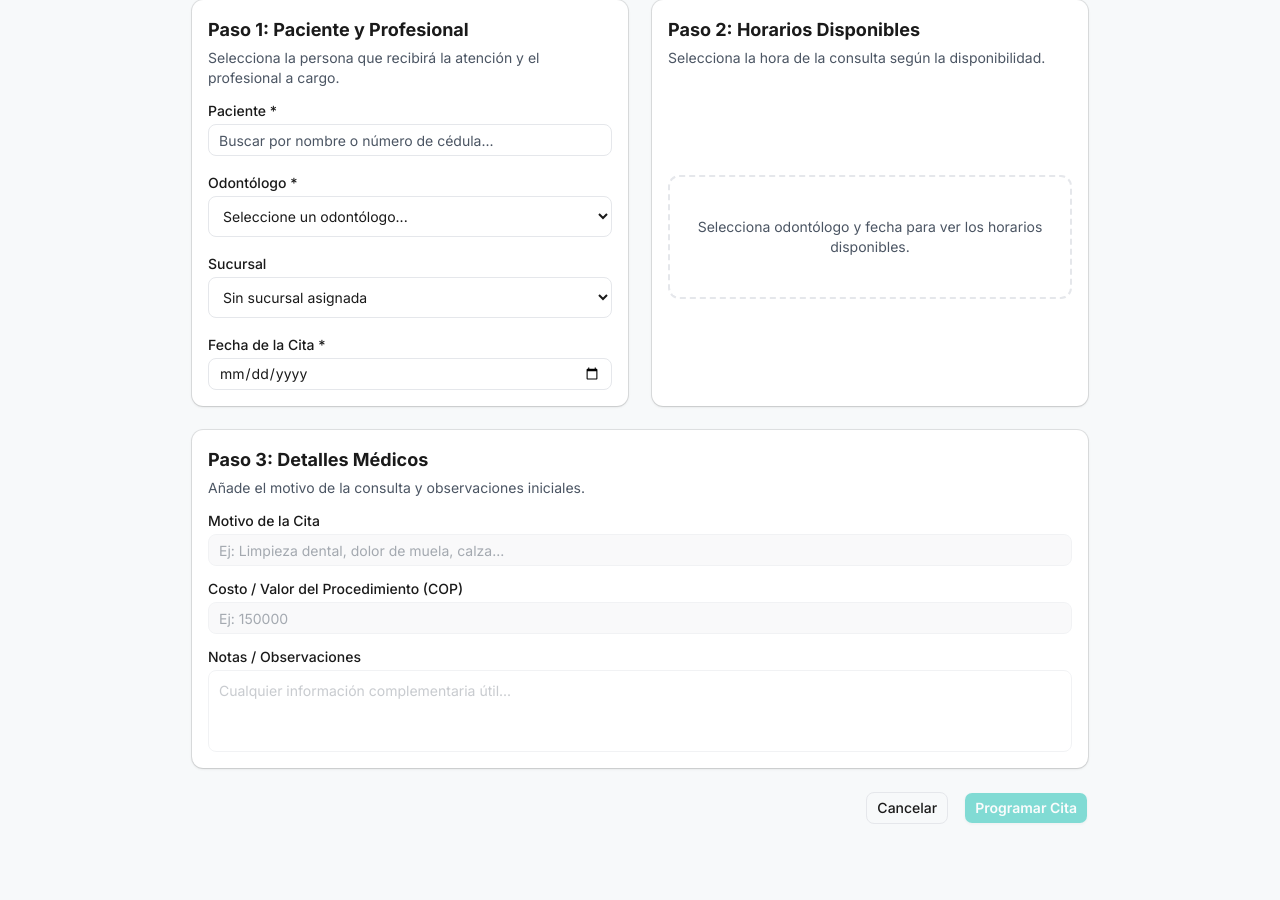
Test: AppointmentForm Component › 4. should handle overlap error, show warning alert, and preserve form values
Select patient
Type "Juan" into the field with placeholder "Buscar por nombre o número de cédula...".
click(410, 140); type("Juan")  # box top-left (208, 124), bottom-right (612, 156)
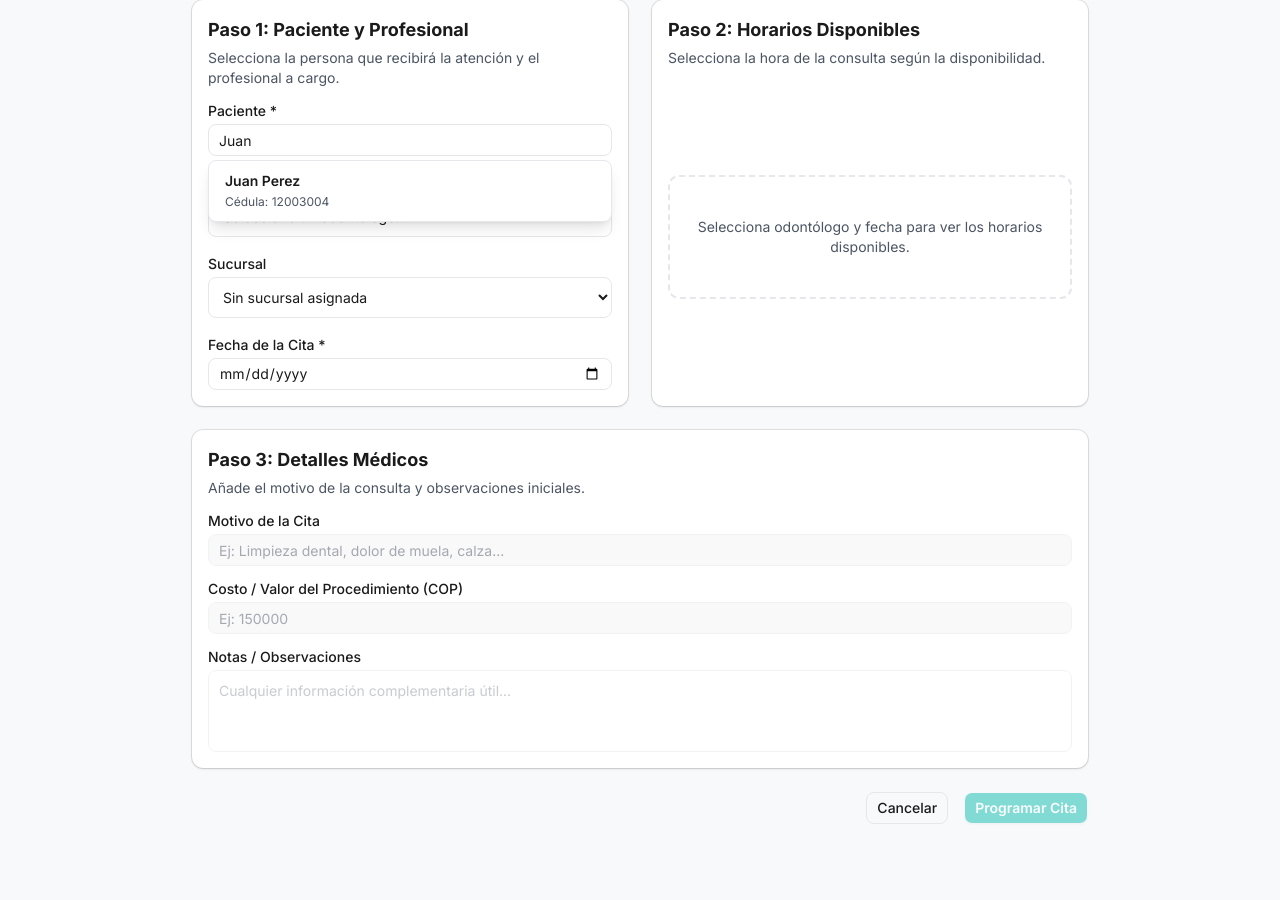
Click the text "Juan Perez".
click(263, 180)  # box top-left (225, 172), bottom-right (300, 189)
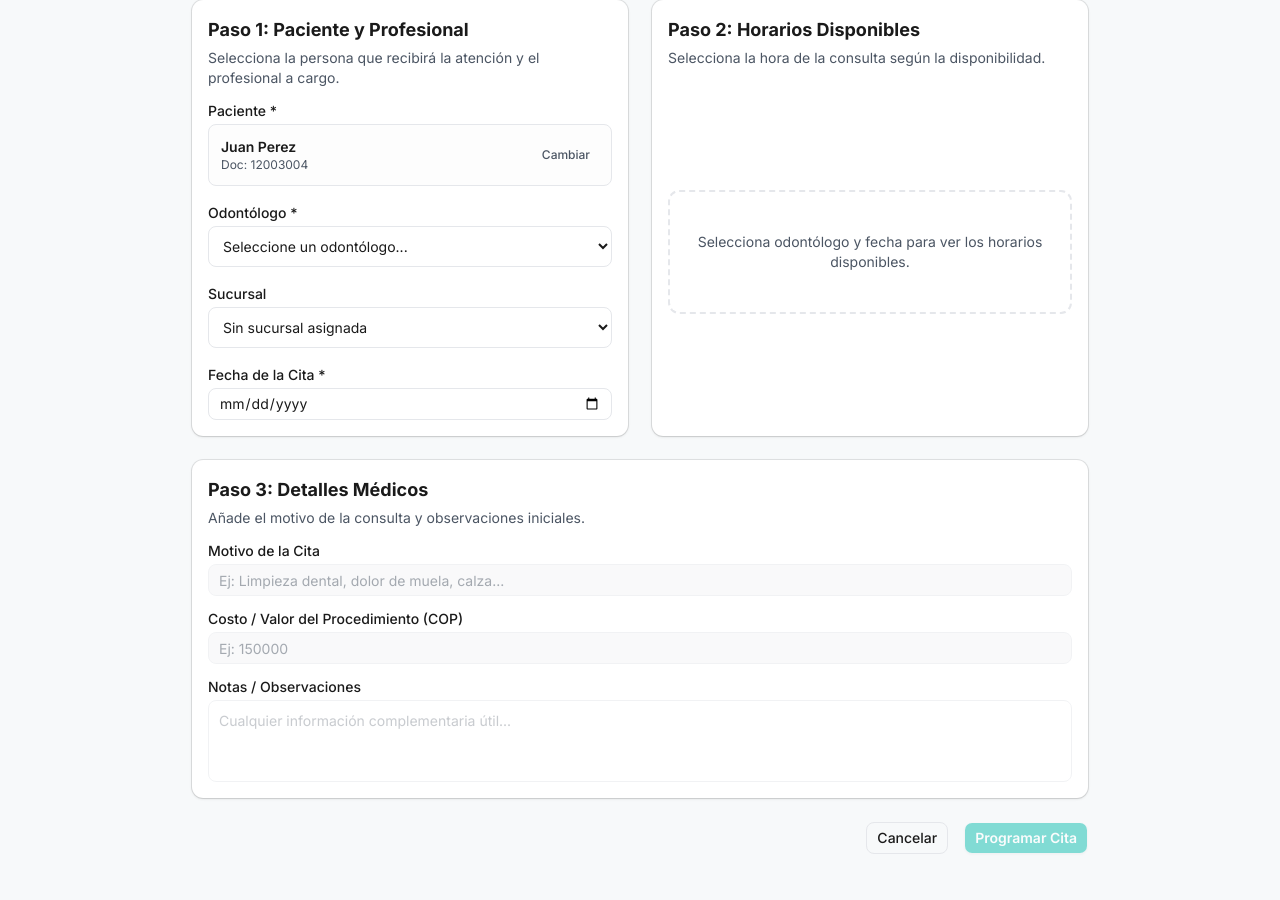
Select dentist
Select "Dr. House" in the dropdown labelled "Odontólogo *" at [410, 246], box top-left (208, 226), bottom-right (612, 267)
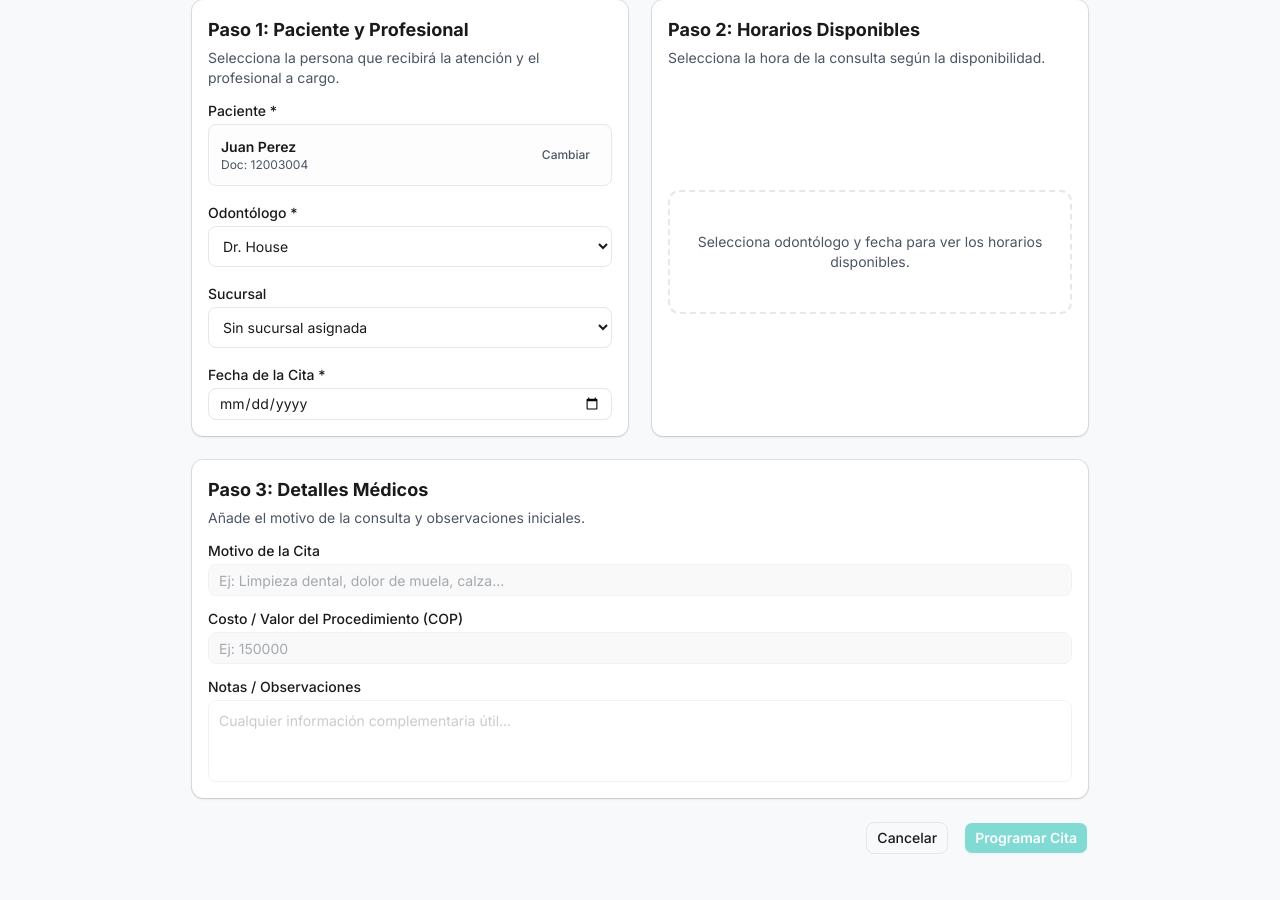
Select date
Type "2026-07-06" into the date field labelled "Fecha de la Cita *".
click(410, 404); type("2026-07-06")  # box top-left (208, 388), bottom-right (612, 420)
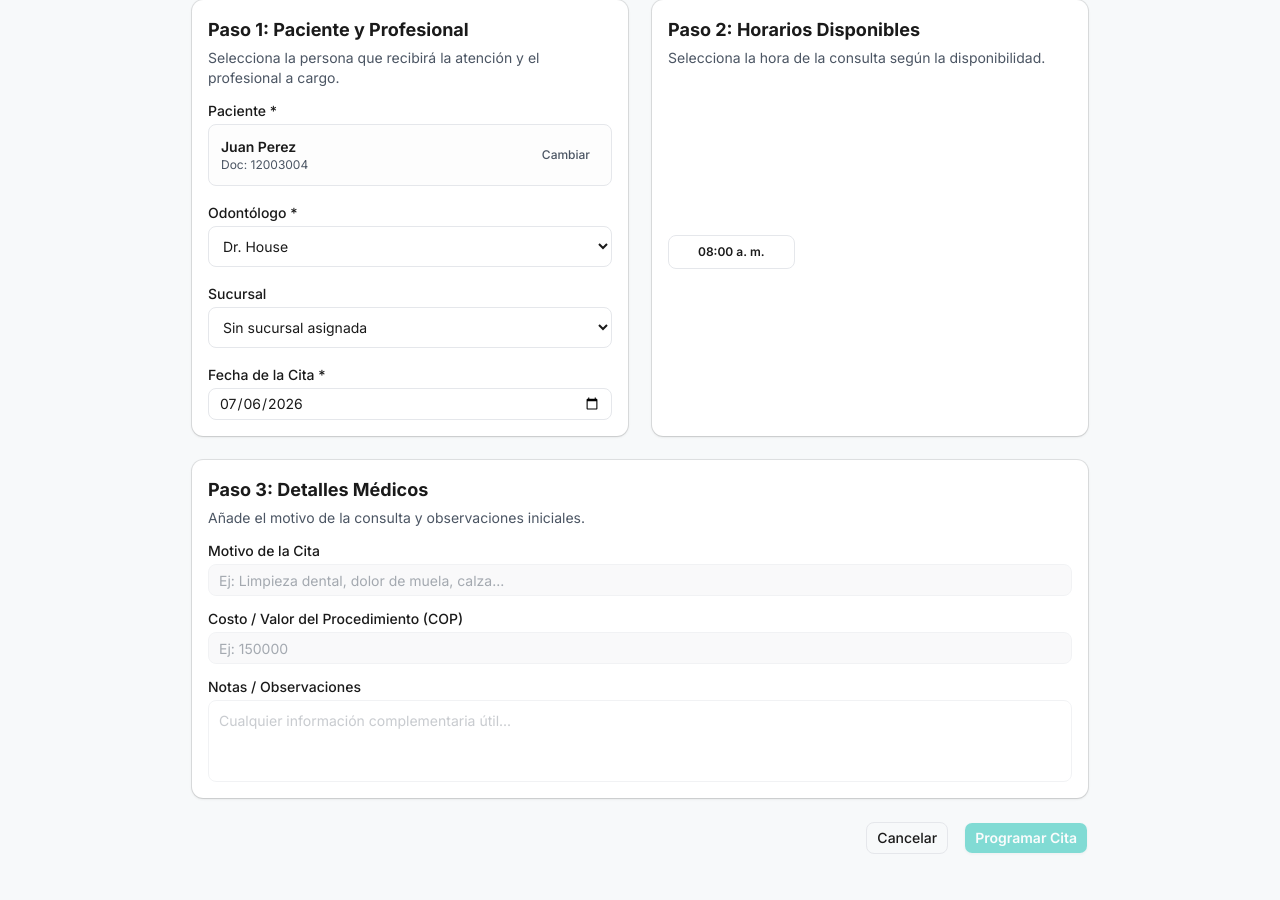
Result: the button "08:00 a. m." is shown
Click the button "08:00 a. m.".
click(731, 252)  # box top-left (668, 235), bottom-right (795, 269)
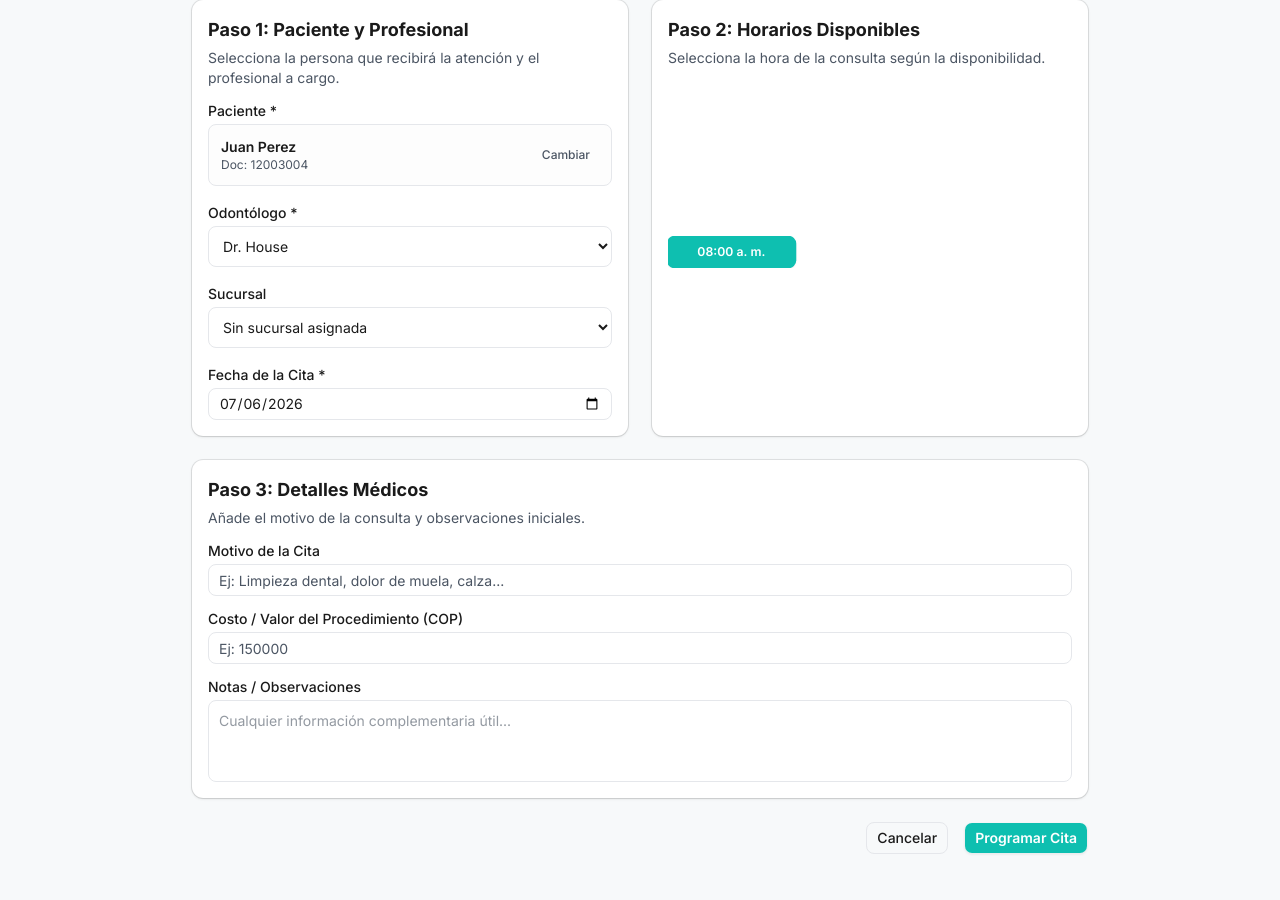
Result: the button "Programar Cita" is enabled at top-left (964, 822), bottom-right (1088, 854)
Submit the form named "Programar Cita"
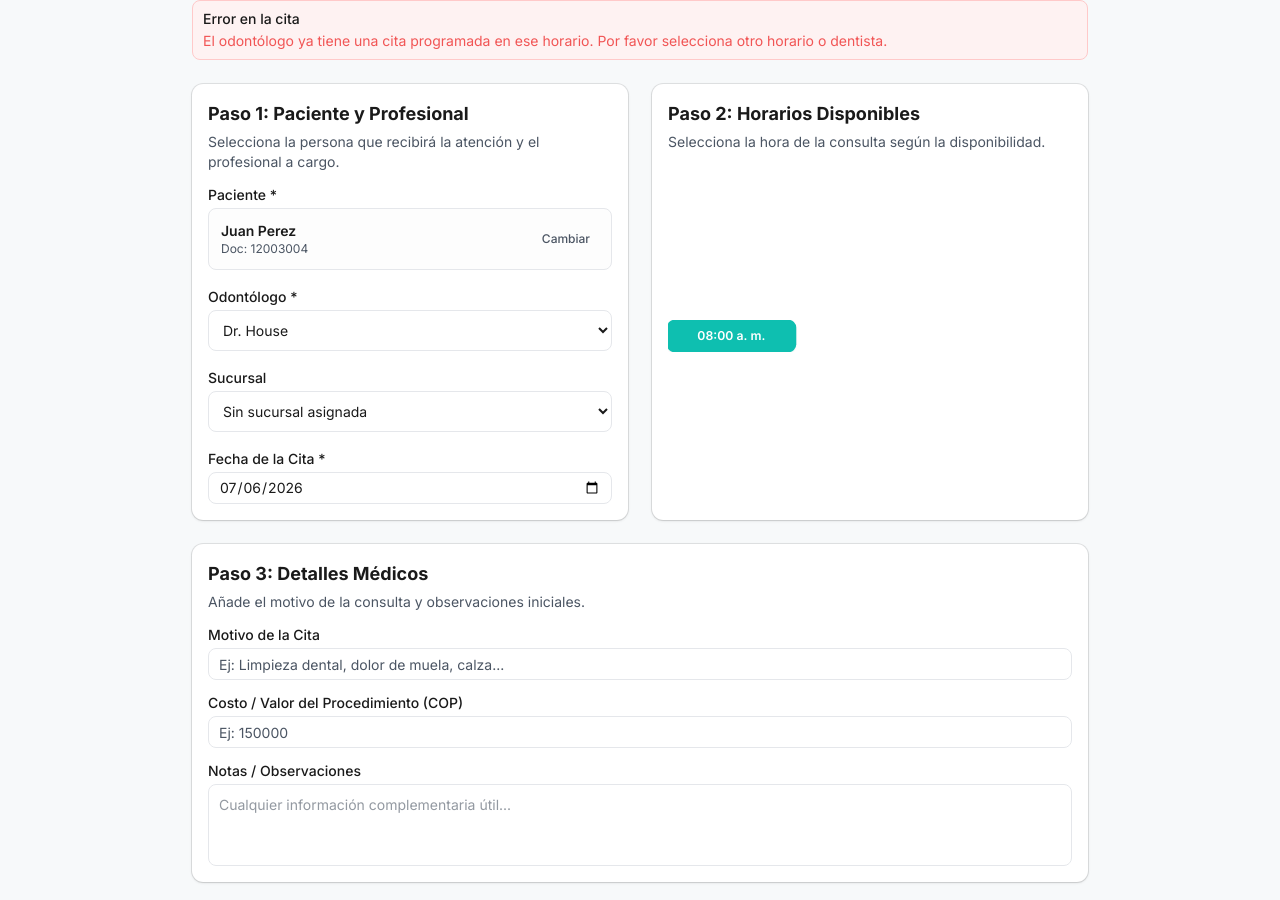
Result: the text "Juan Perez" is shown at top-left (221, 221), bottom-right (308, 241)
Result: the text "Doc: 12003004" is shown at top-left (221, 241), bottom-right (308, 257)
Result: the text "El odontólogo ya tiene una cita programada en ese horario" is shown at top-left (203, 32), bottom-right (887, 49)
